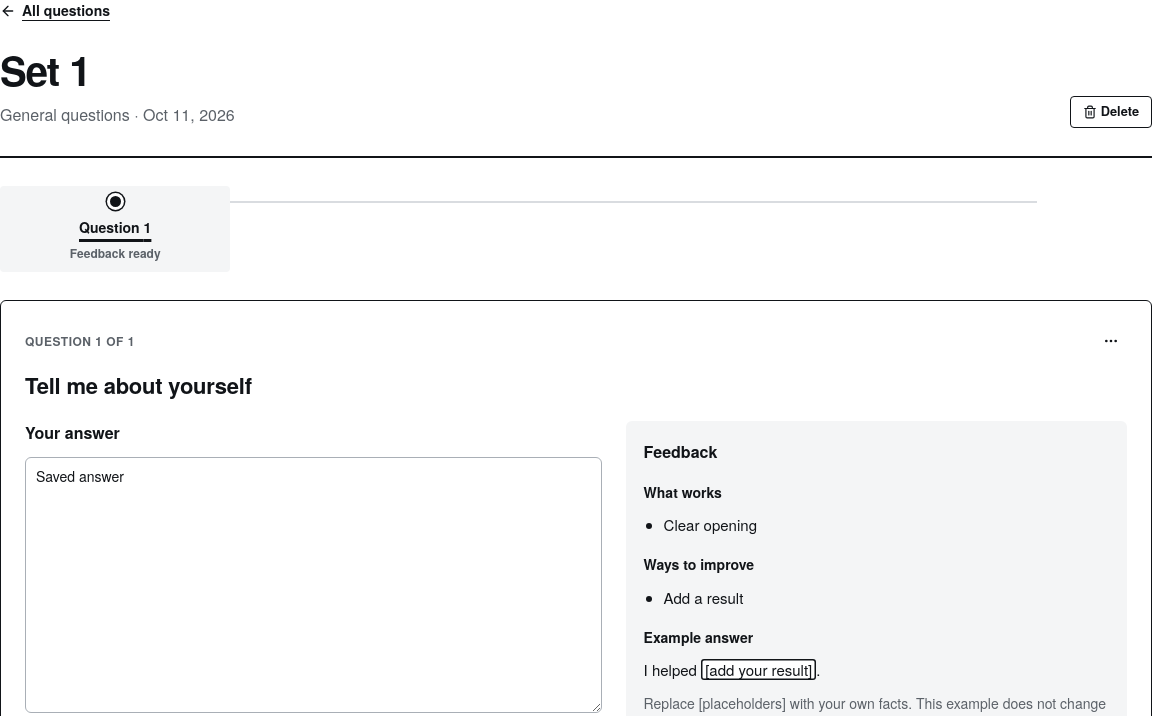
Test: requires answered replacement confirmation and preserves content on queue failure
What coordinates should you click on to do the following:
click the button named "Actions for question 1"
I would click on:
 (1111, 341)
Its box is [1095,325,1127,357].
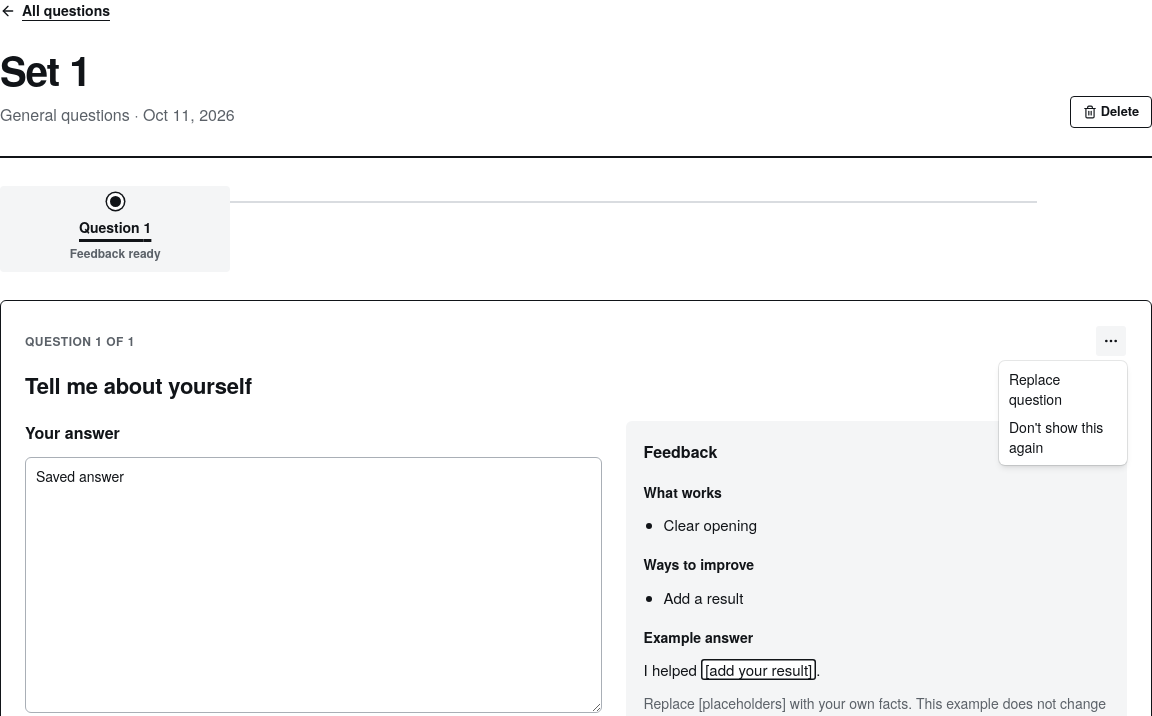
What coordinates should you click on to do the following:
click the menu item "Replace question"
I would click on:
 (1035, 389)
Its box is [1009,369,1062,409].
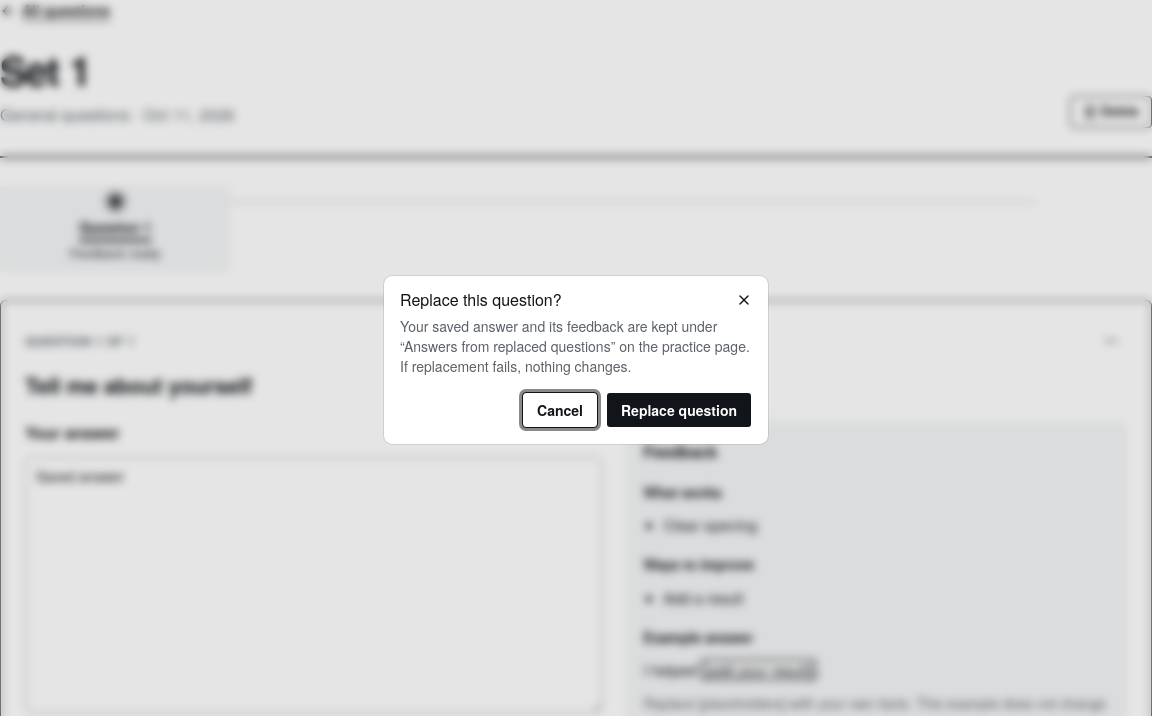
Now the dialog shows "Answers from replaced questions", box [400,316,750,356]
What coordinates should you click on to do the following:
click the button "Replace question"
I would click on:
 (679, 410)
Its box is [606,392,752,428].
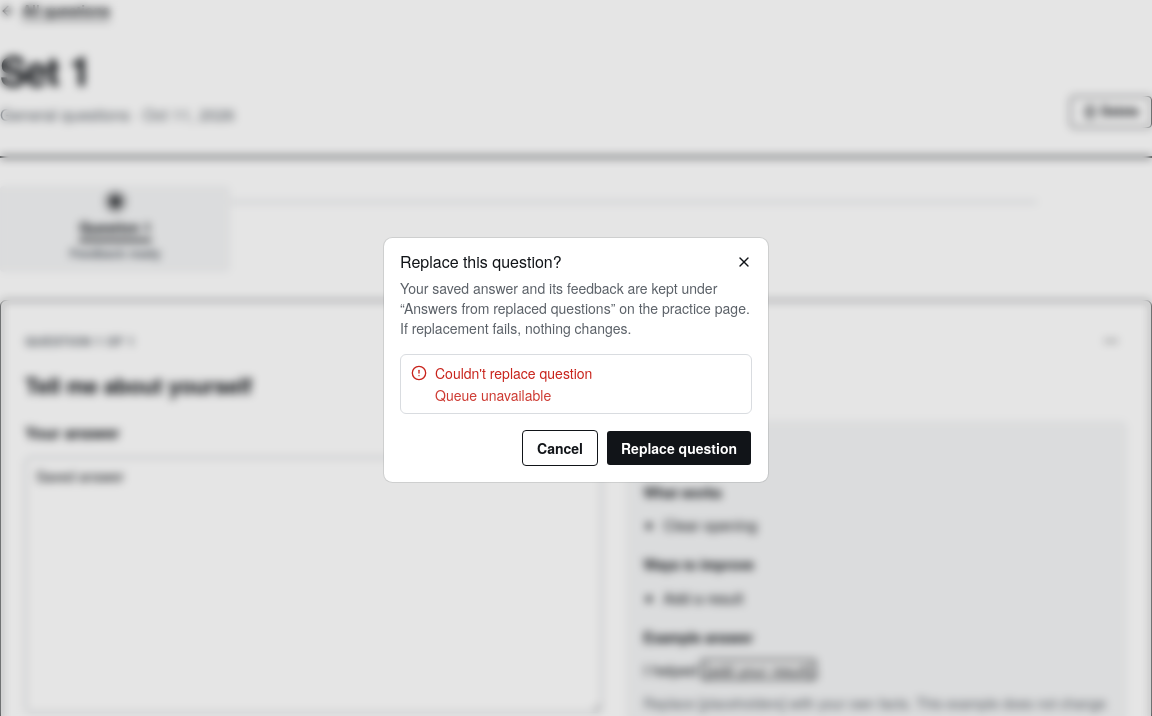
Expected: the text box labelled "Your answer" holds "Saved answer", [25,457,602,713]
Now the text "Queue unavailable" is shown 2 times
